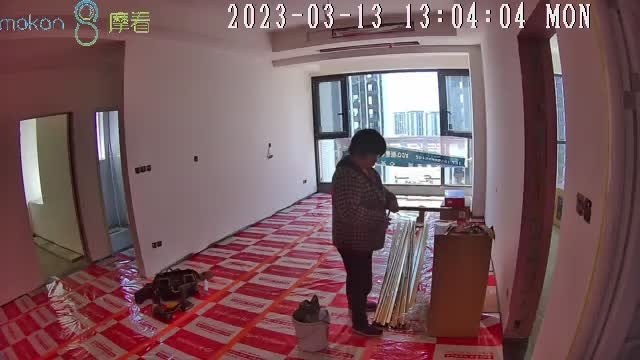people: (331, 130, 399, 335)
window: (317, 72, 474, 188)
